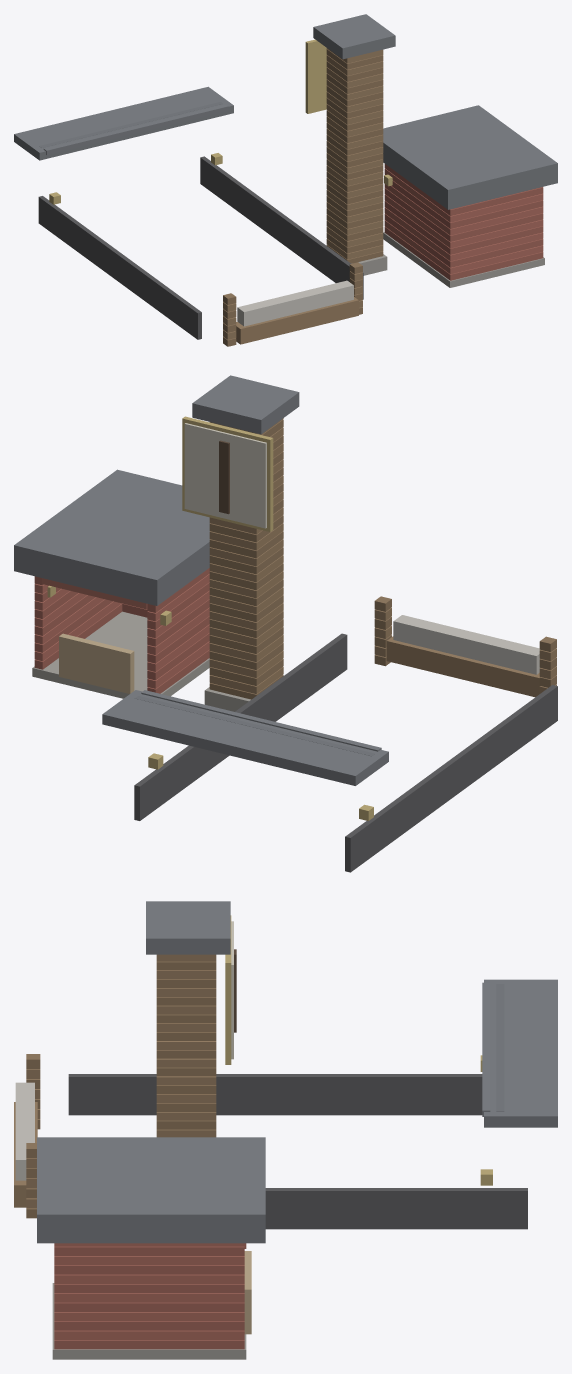
The model's file is WeighHouse.glb.
3 renders of one model, top to bottom at view 1: azimuth 30°, elevation 25°; view 2: azimuth 150°, elevation 25°; view 3: azimuth 270°, elevation 25°, orthographic. The views are drawn at different scales.
Parts seen in each view (by area): view 1: Body, Roof, Sign; view 2: Body, Roof, Sign, Glow; view 3: Body, Roof, Sign.
Boxes of the visible parts, <box> form: Body: <box>38,48,544,346</box>; Roof: <box>14,14,557,209</box>; Sign: <box>305,39,326,113</box>; Body: <box>32,418,557,872</box>; Roof: <box>14,375,388,785</box>; Sign: <box>182,416,273,531</box>; Glow: <box>47,585,373,820</box>; Body: <box>14,954,527,1359</box>; Roof: <box>37,901,557,1243</box>; Sign: <box>225,915,236,1064</box>.
Size of what is drawn, in the model's own units: 34.4 by 21.2 by 30.9.
